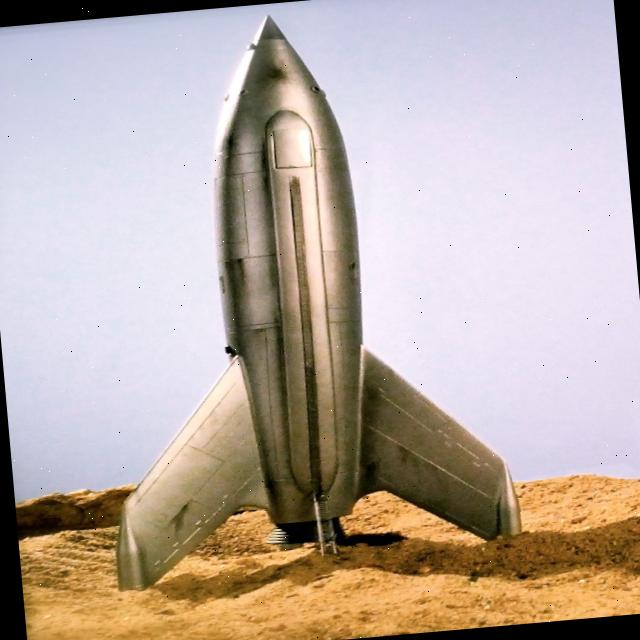rocket: (94, 9, 529, 610)
